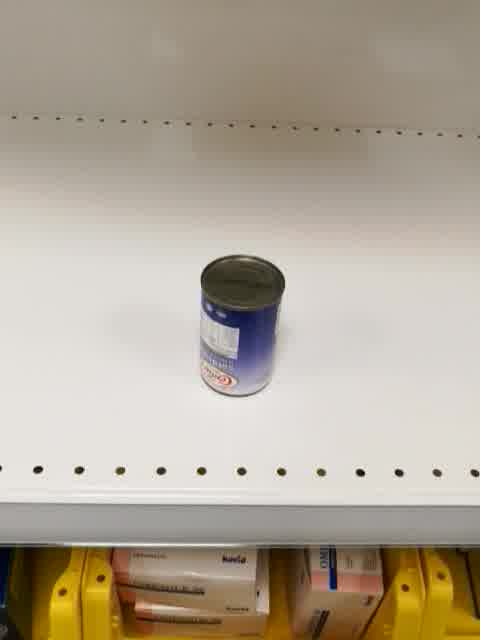sardine: (198, 254, 286, 399)
